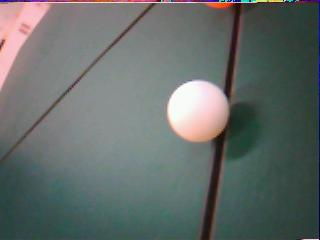oball: (206, 3, 235, 10)
